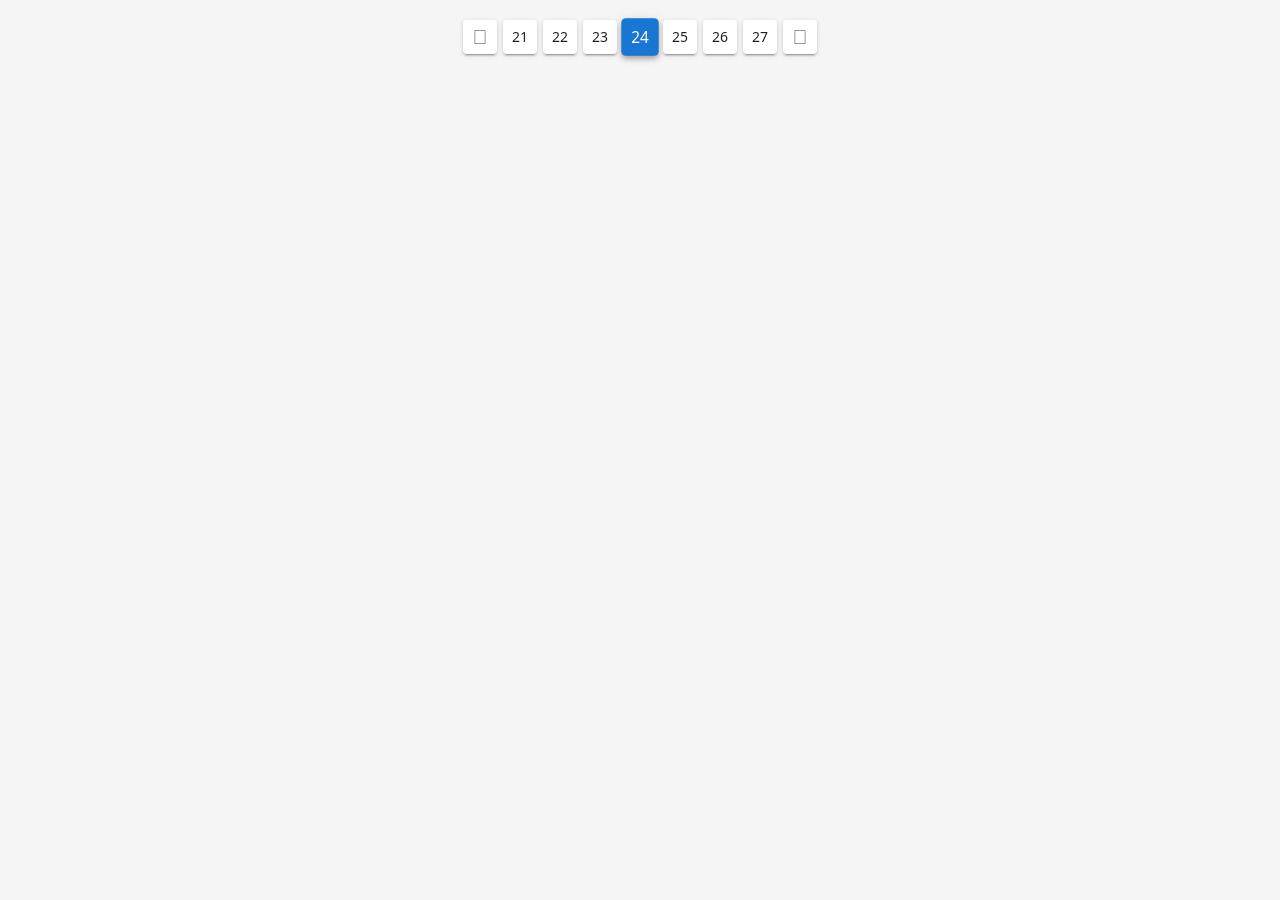
Test case: ExtendedPagination page input dialog (Requirements 8.39-8.45) › [AC 8.40] does not move for 0 (zero) and shows the error without rounding
Step 1. Click the button named "ページ数を入力して移動" → (640, 37), box [621,18,659,56]
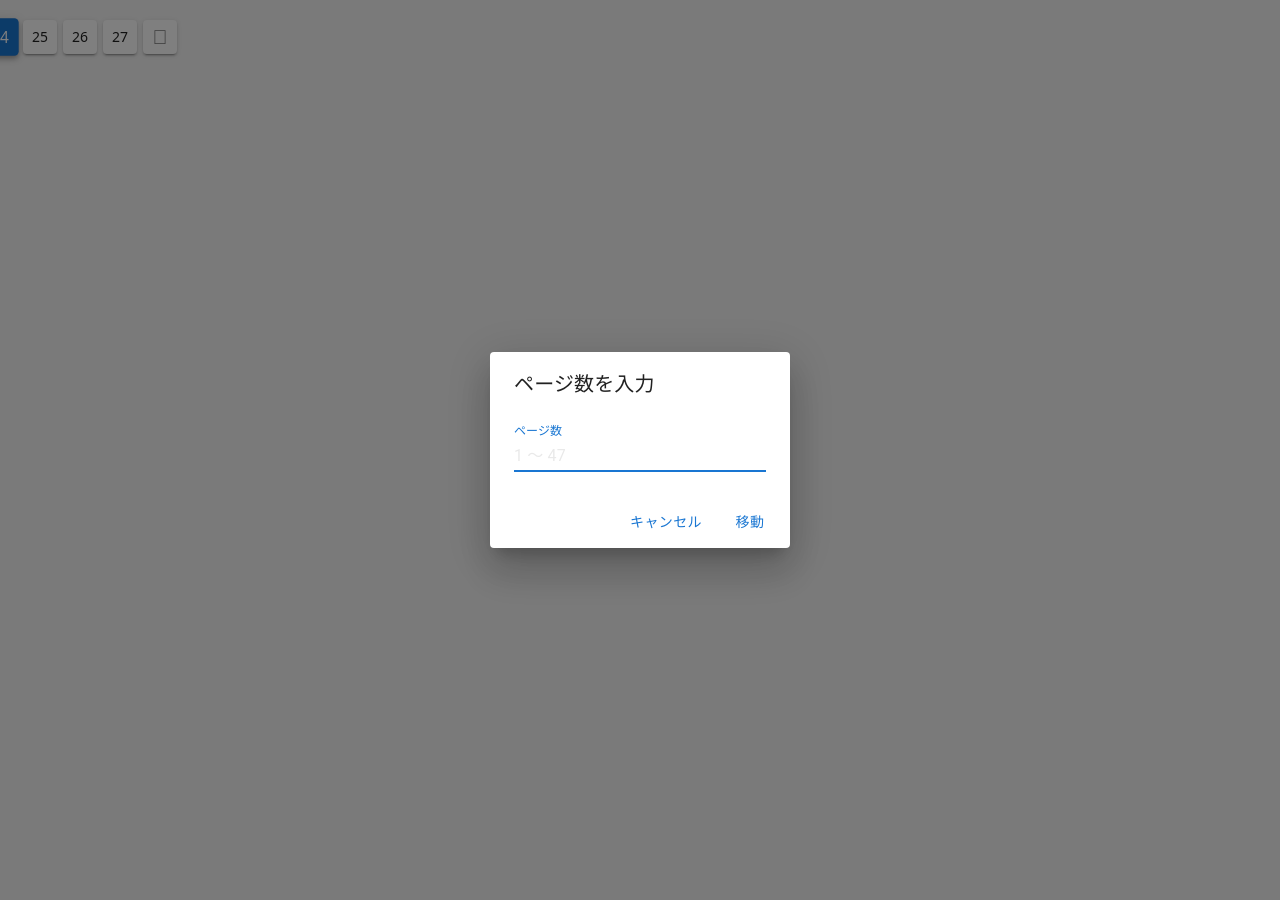
Step 2. Type "0" into the field labelled "ページ数" → (640, 456), box [514,440,766,472]
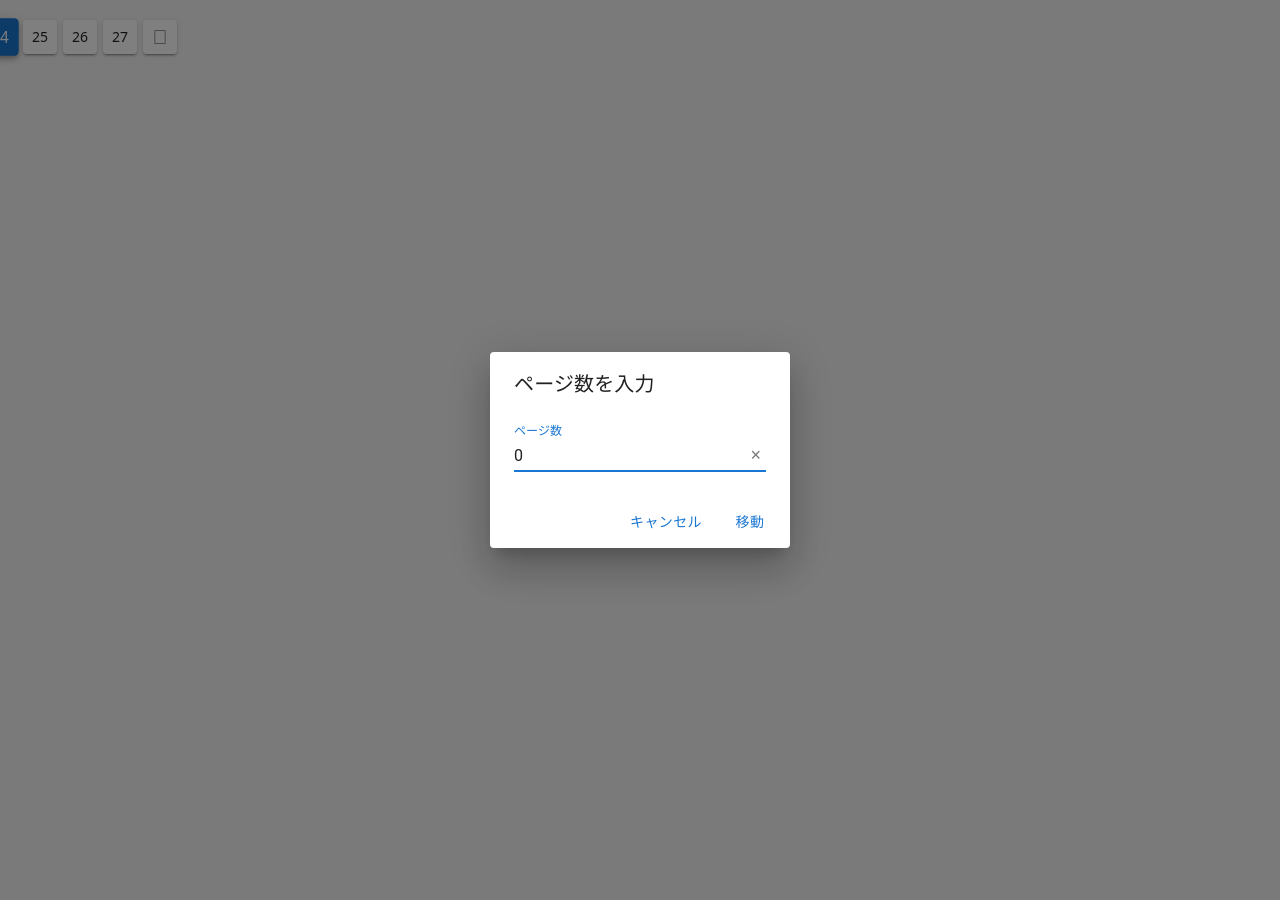
Step 3. Click the button "移動" → (750, 522), box [718,504,782,540]
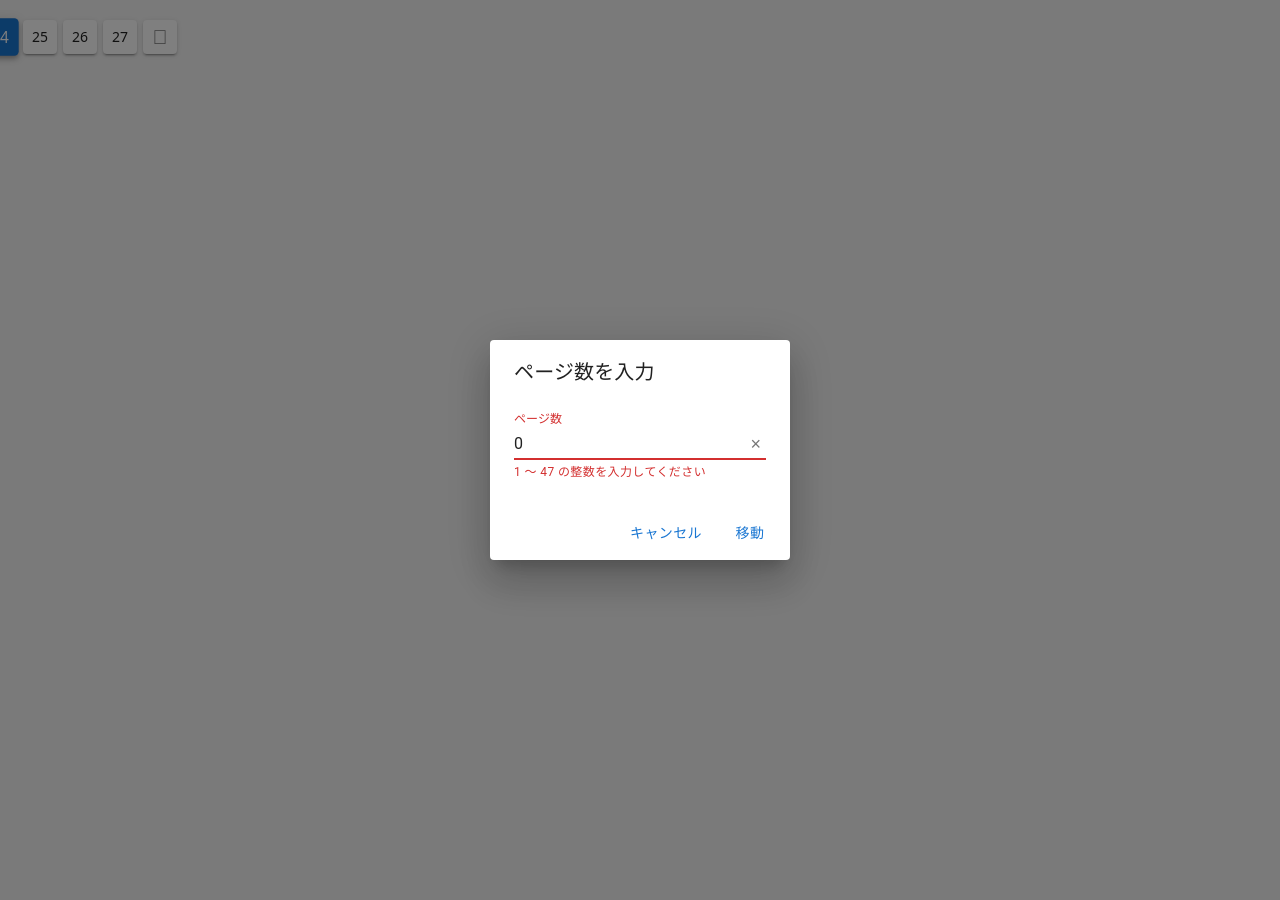
Now the dialog "ページ数を入力" is shown, box [490,340,790,560]
Now the text "1 〜 47 の整数を入力してください" is shown, box [514,465,706,479]
